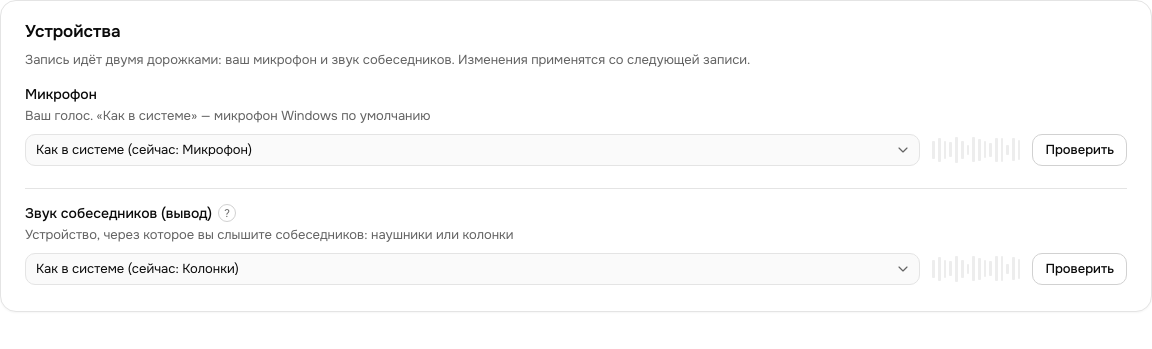
Test: тишина на выводе — подсказка включить звук; системное — name null
Click the 2nd button "Проверить".
click(1080, 269)  # box [1032, 253, 1127, 285]
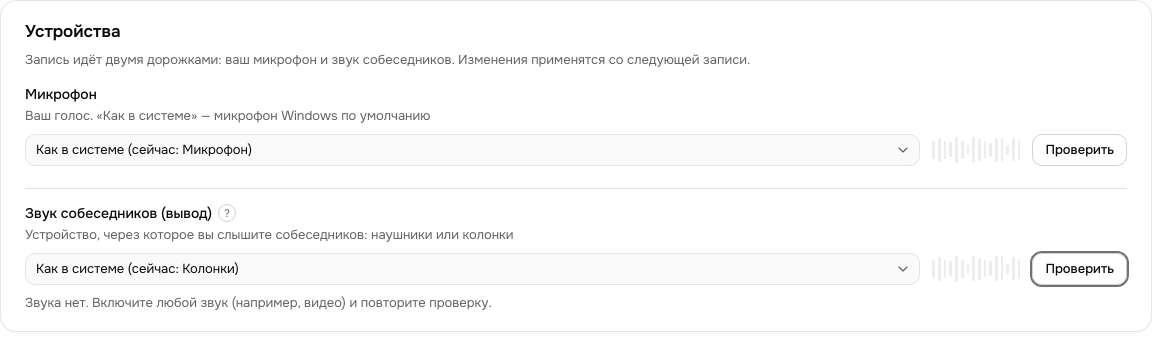
Now the text "Звука нет. Включите любой звук" is shown, box [25, 294, 492, 311]
